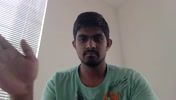hand: (77, 1, 109, 48)
